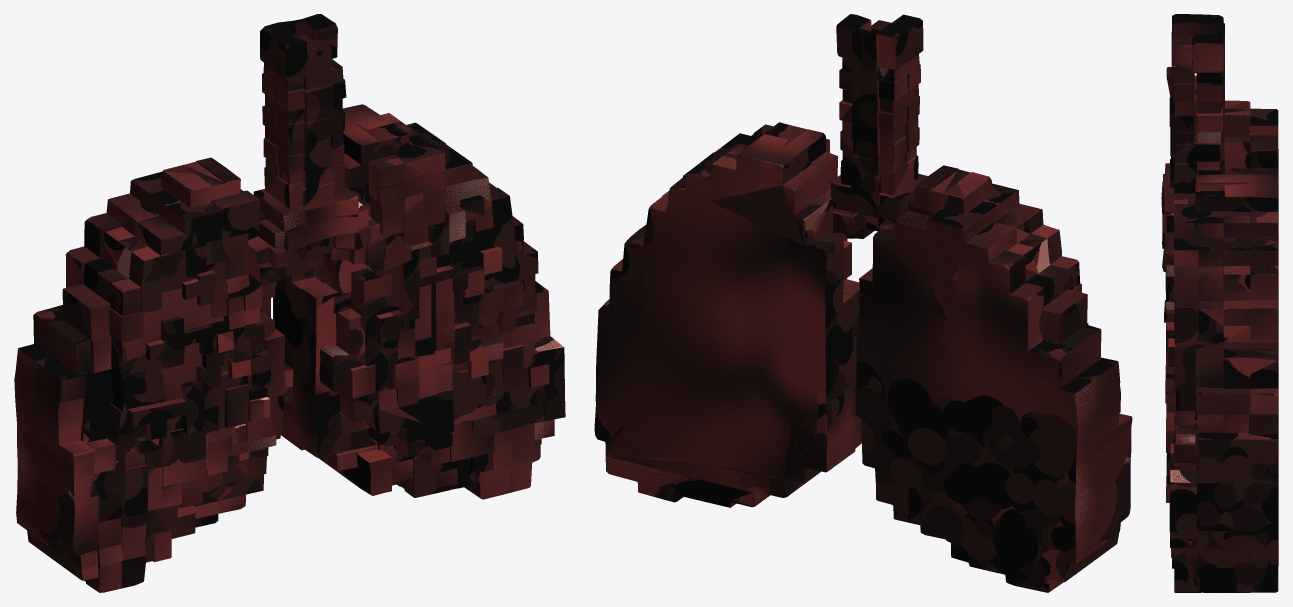
The picture shows the model from 3 angles, left to right: view 1: azimuth 30°, elevation 25°; view 2: azimuth 150°, elevation 25°; view 3: azimuth 270°, elevation 25°; orthographic projection. The views are drawn at different scales.
Parts seen in each view (by area): view 1: node_0; view 2: node_0; view 3: node_0.
Part boxes in pixels (x1,y1,x2,y2): node_0: (14,14,565,592); node_0: (594,14,1132,592); node_0: (1161,14,1278,592).
Bounding box in the file's own units: 0.8968 × 0.8696 × 0.1966.
Materials: 1 (1 with a texture image).
